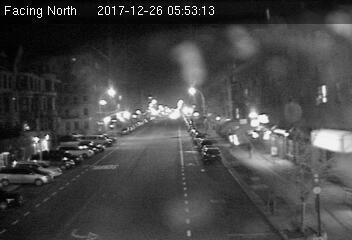car: (199, 144, 222, 163)
